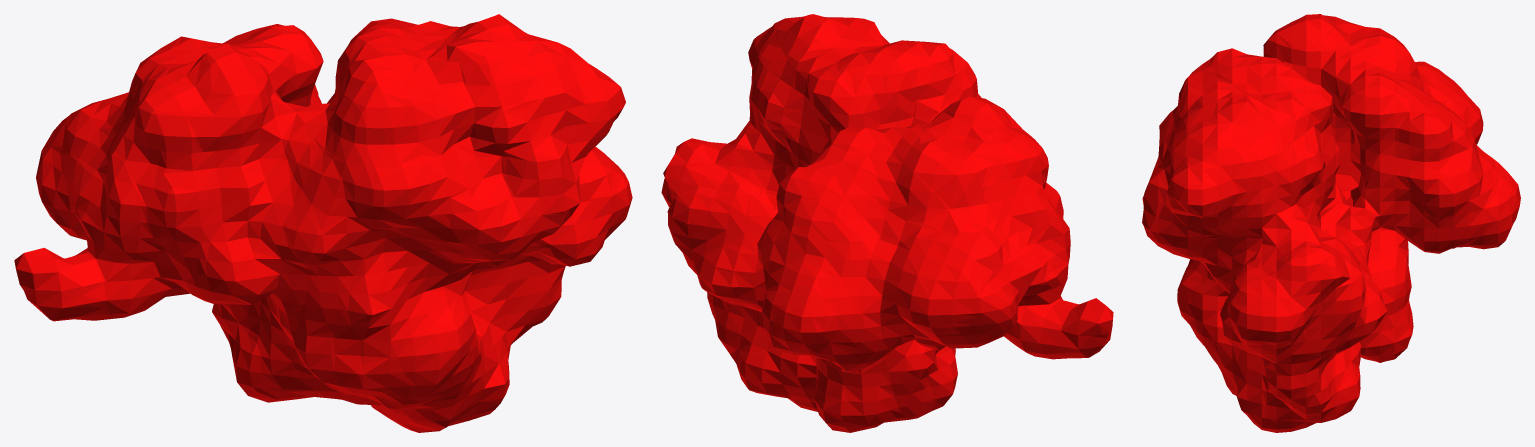
The model's file is Guanine_nucleotide_binding_pro_5_coarse.dae.
The picture shows the model from 3 angles, left to right: view 1: azimuth 30°, elevation 25°; view 2: azimuth 150°, elevation 25°; view 3: azimuth 270°, elevation 25°; orthographic projection. The views are drawn at different scales.
Parts seen in each view (by area): view 1: Guanine_nucleotide_binding_pro_5; view 2: Guanine_nucleotide_binding_pro_5; view 3: Guanine_nucleotide_binding_pro_5.
Boxes of the visible parts, x1,y1,x2,y2 form: Guanine_nucleotide_binding_pro_5: (14, 14, 632, 432); Guanine_nucleotide_binding_pro_5: (661, 14, 1113, 432); Guanine_nucleotide_binding_pro_5: (1142, 14, 1520, 432).
Bounding box in the file's own units: 120 × 85.83 × 86.52.
